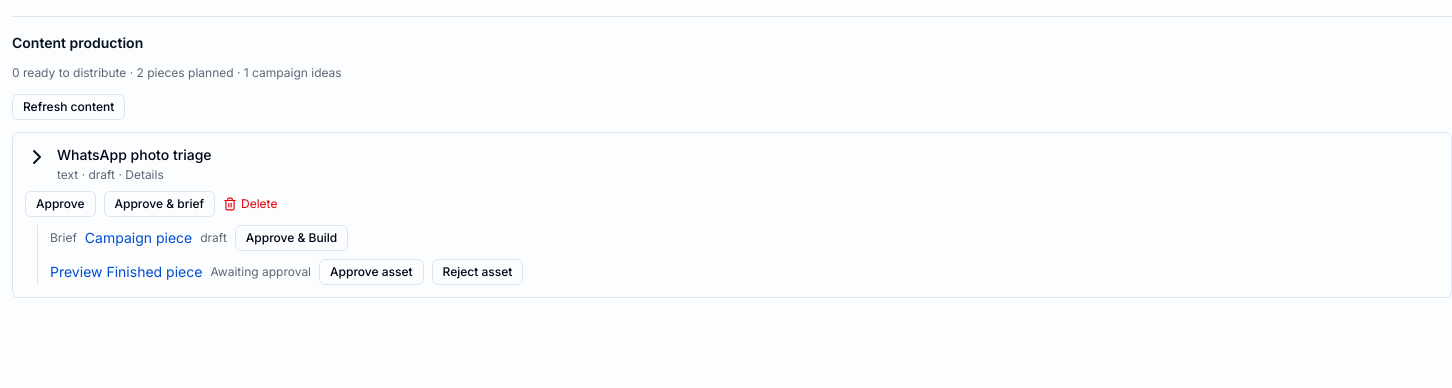
idea Details default collapsed › hides the body until Details is opened
The width and height of the screenshot is (1452, 388).
Expected: the text "WhatsApp photo triage" is shown, top-left (57, 145), bottom-right (212, 165)
Expected: the text "Ask the spouse to send three photos" is not shown
Click the button with aria-label "Details for WhatsApp photo triage" at (134,154), box top-left (25, 145), bottom-right (1439, 183)
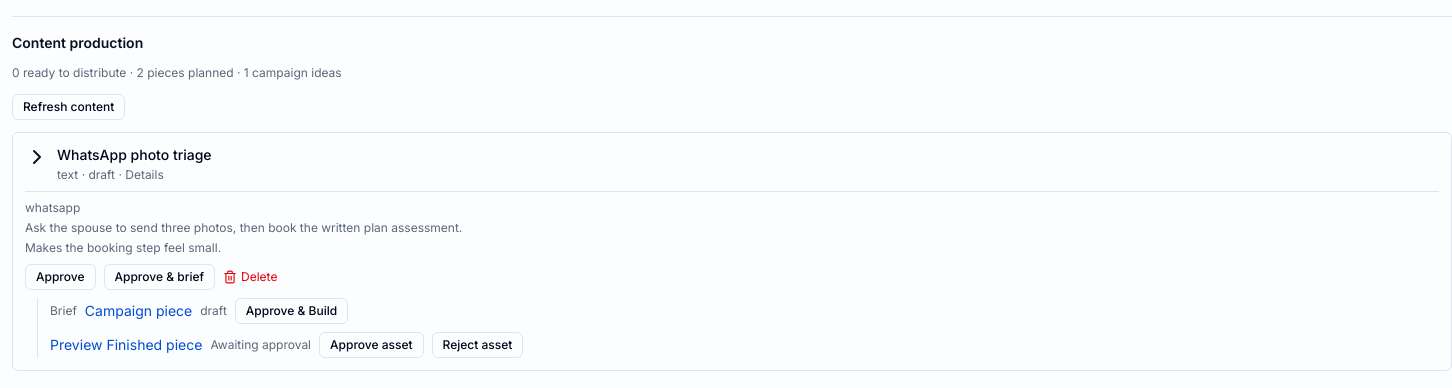
Result: the text "Ask the spouse to send three photos" is shown at top-left (25, 220), bottom-right (462, 235)
Result: the text "Makes the booking step feel small." is shown at top-left (25, 240), bottom-right (221, 255)
